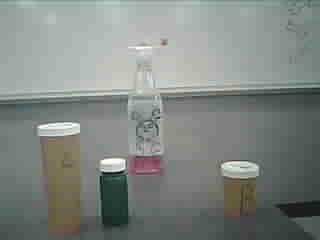Bottle A: (35, 122, 88, 236)
Bottle B: (218, 160, 264, 221)
Bottle C: (96, 156, 134, 227)
hazard: (125, 35, 172, 175)
